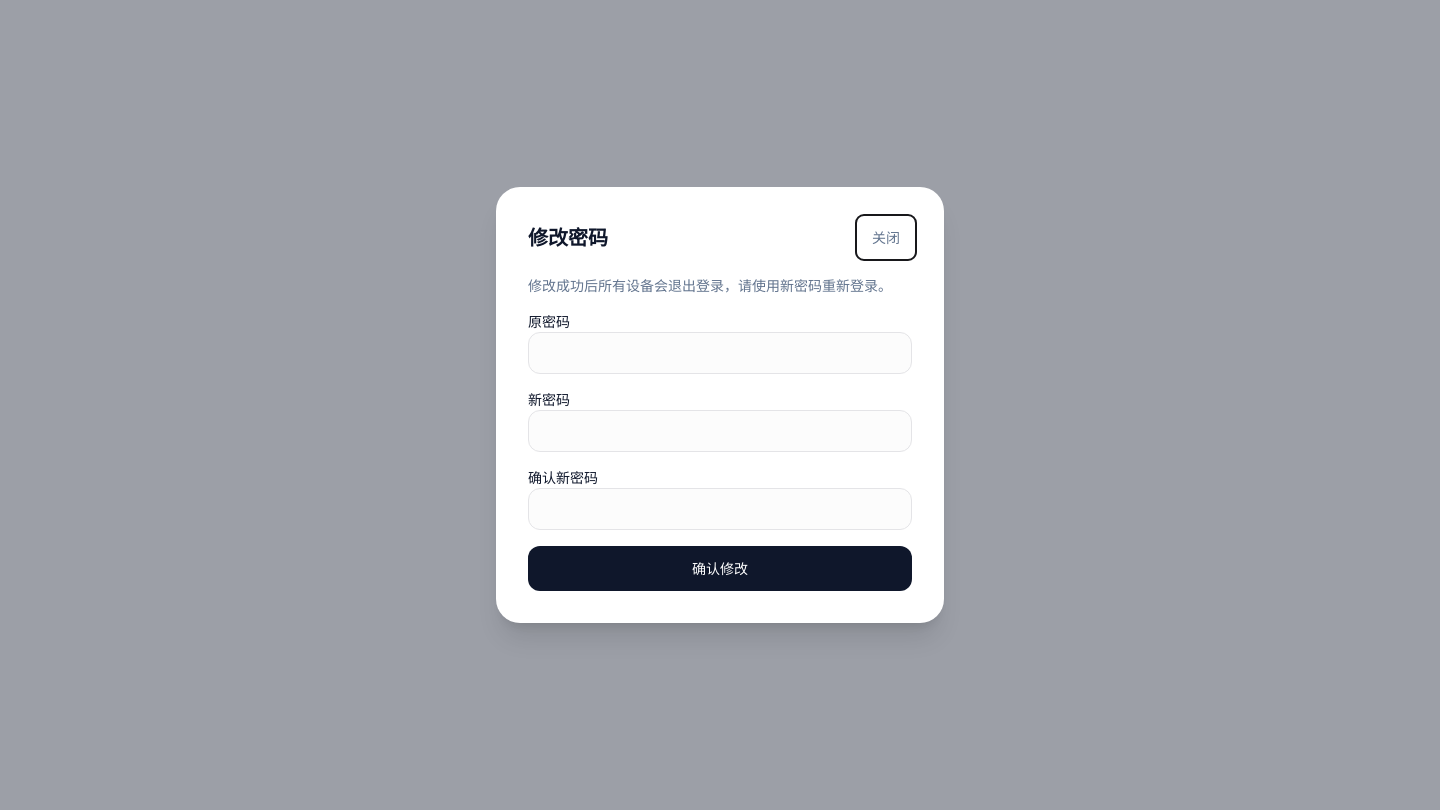
Test: authentication UI › shows wrong current password without closing
In the password field labelled "原密码": (720, 353) [528,332,912,374], type "secret123"
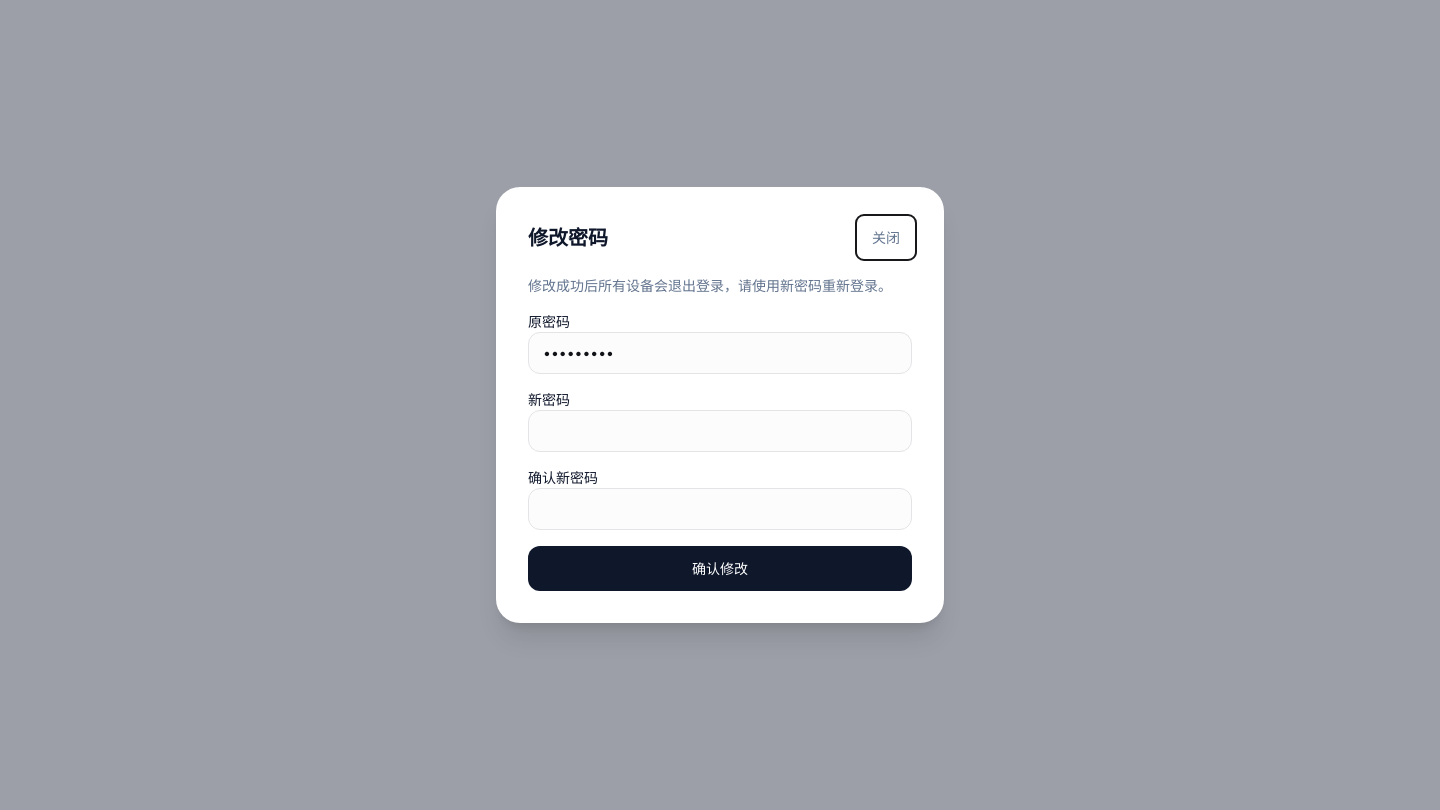
In the password field labelled "新密码": (720, 431) [528,410,912,452], type "secret456"
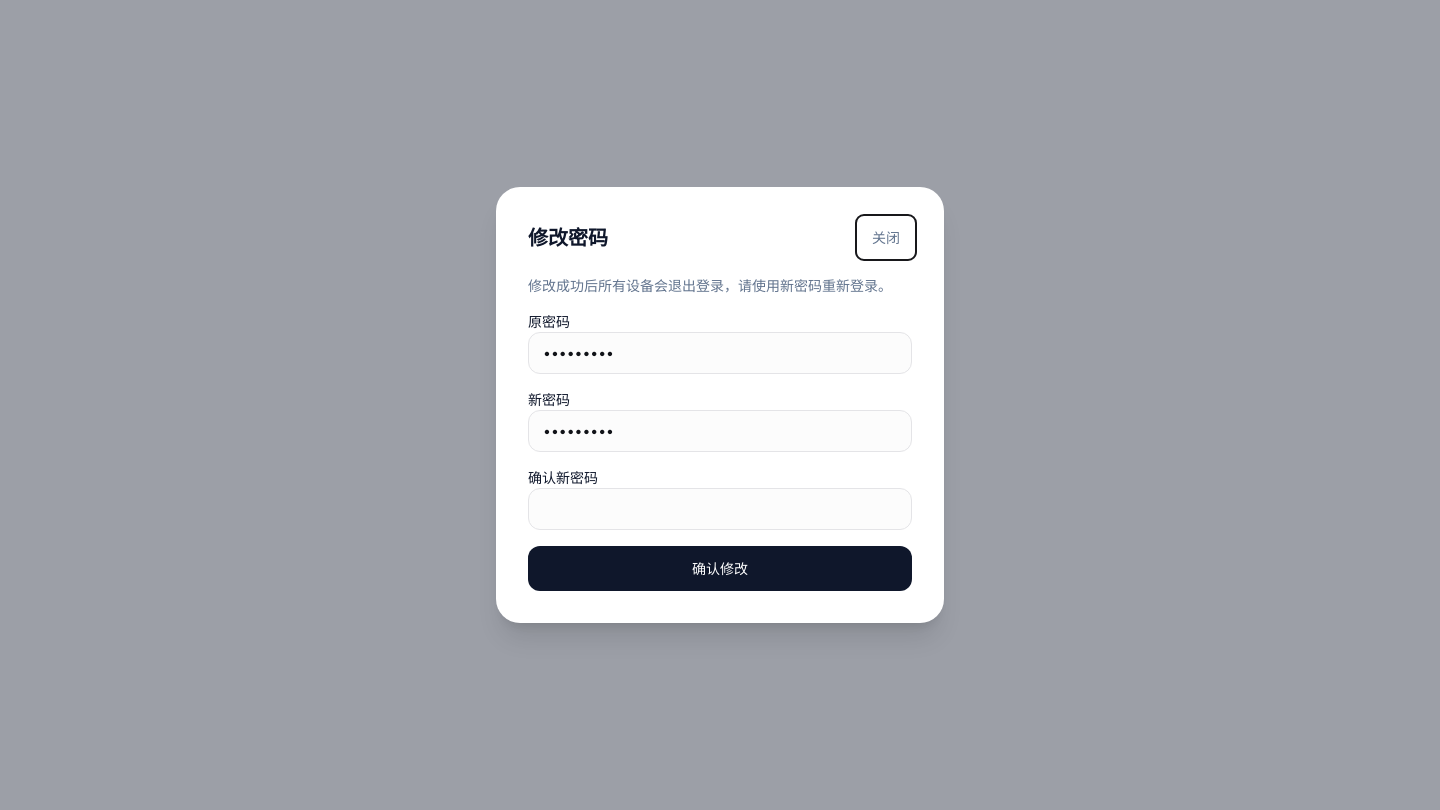
In the password field labelled "确认新密码": (720, 509) [528,488,912,530], type "secret456"
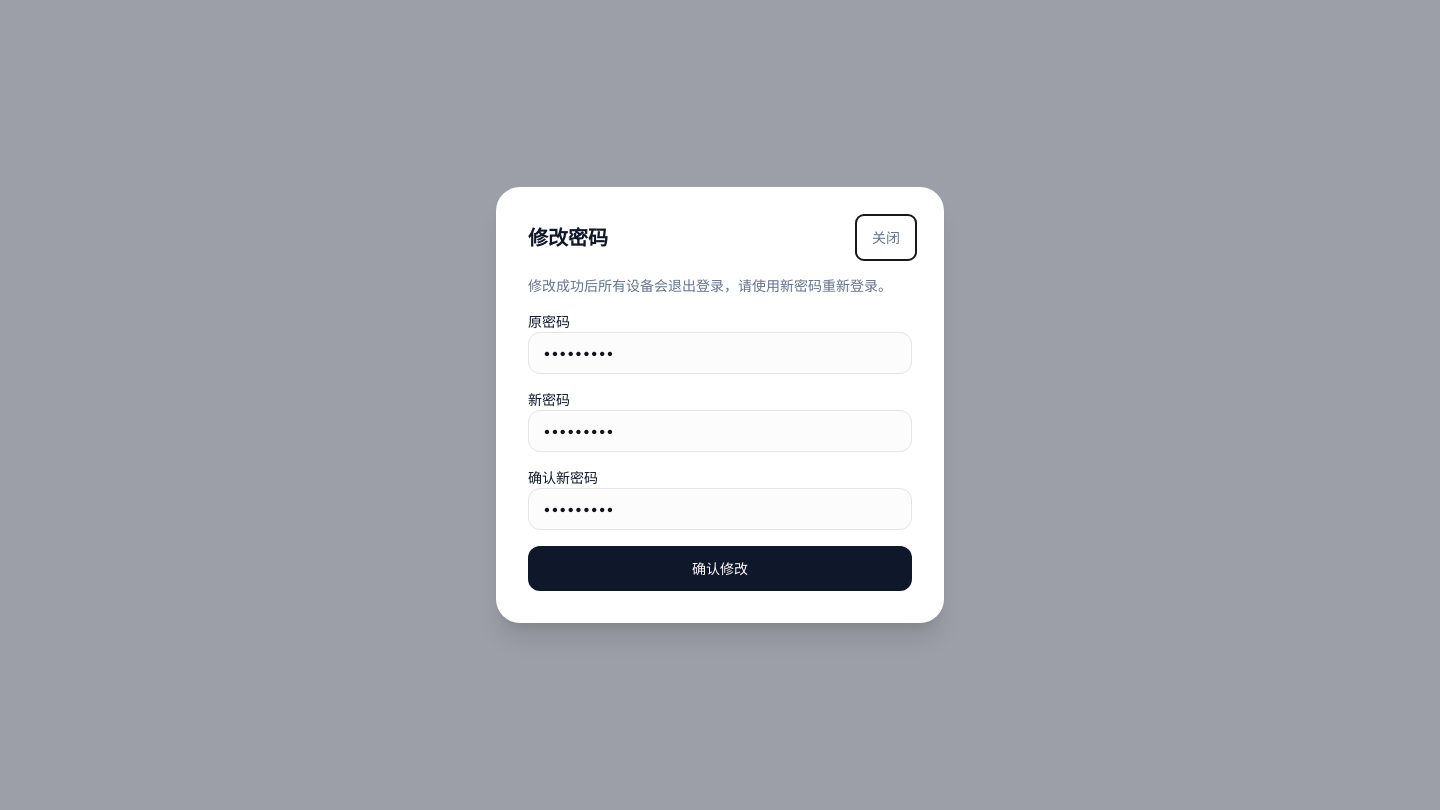
Click the button "确认修改": (720, 568) [528,546,912,591]
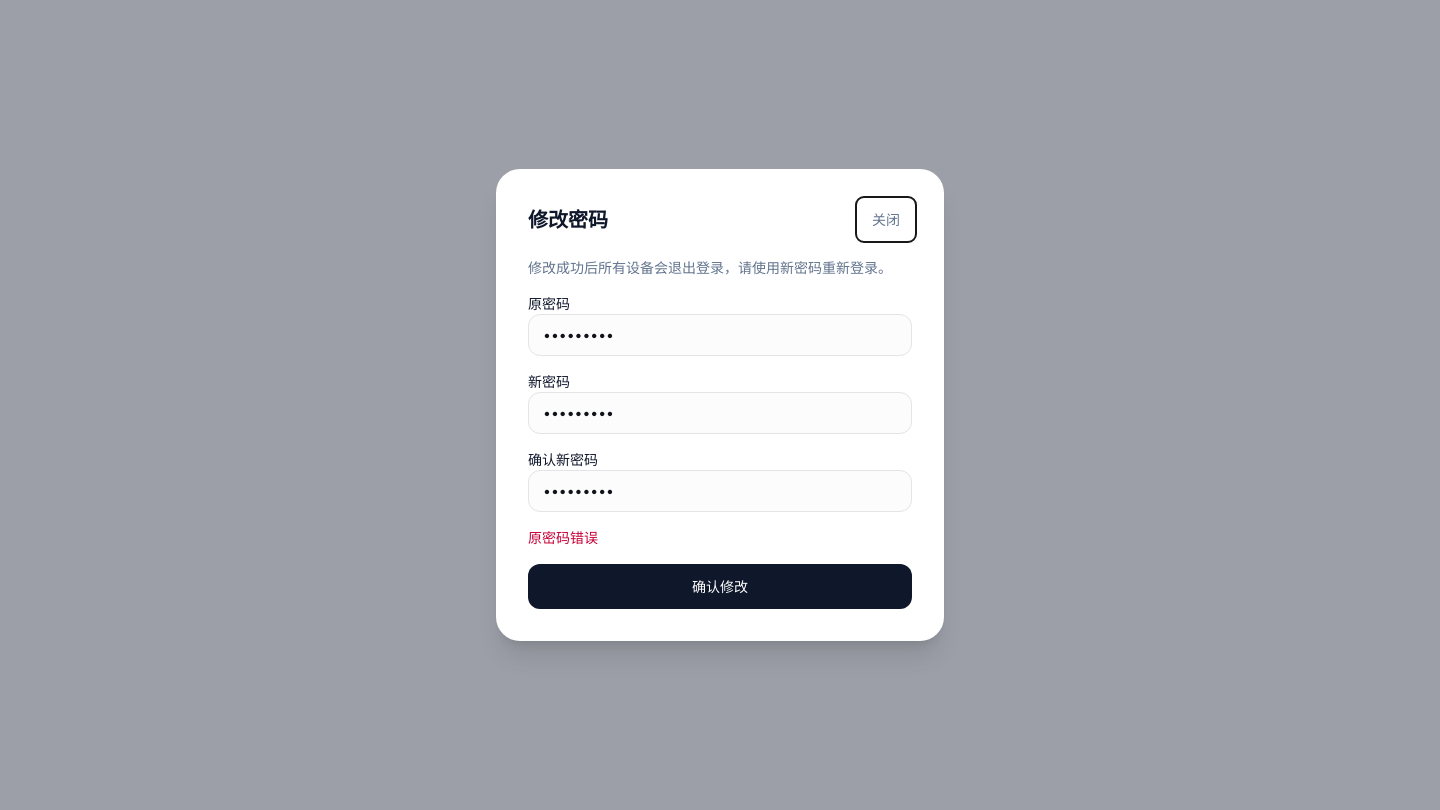
expect the message reads "原密码错误": met, box [528,529,598,546]
